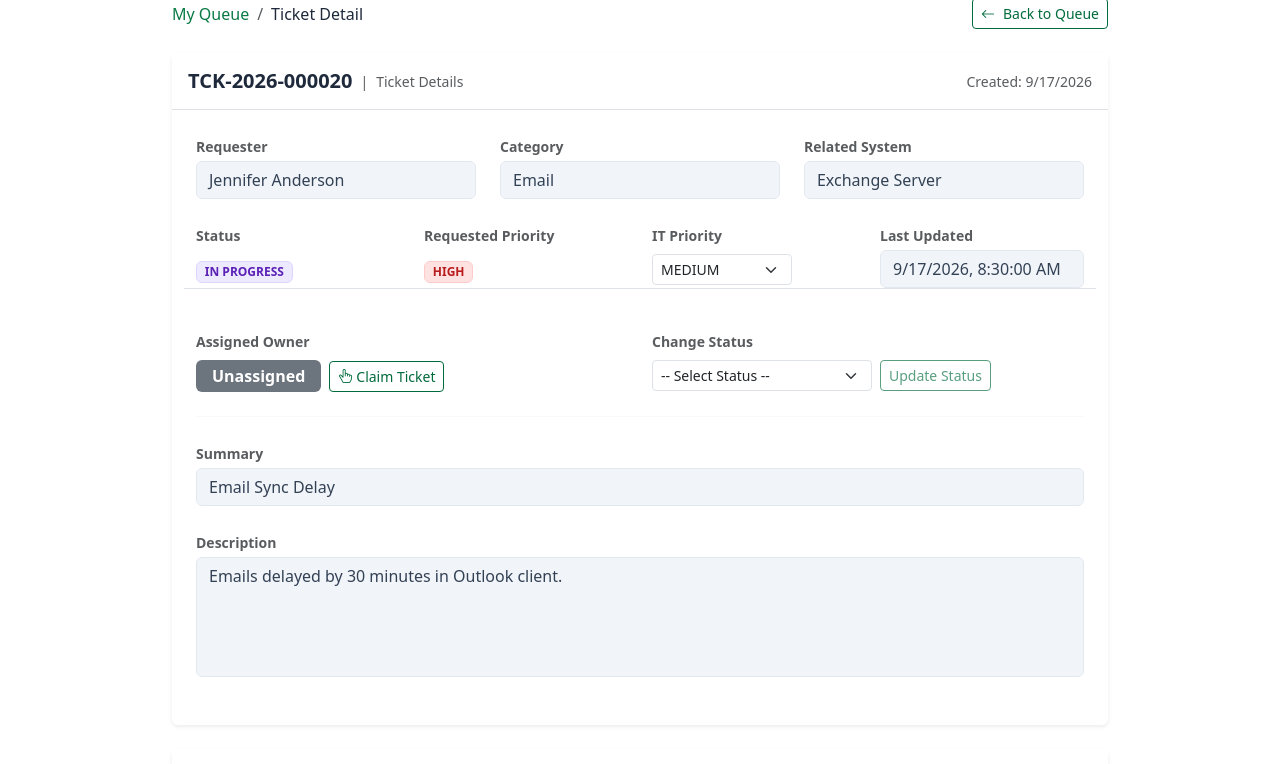
TicketDetailPage - IT Staff Operations (Lab 3 UI-20 to UI-26) › UI-23 / AC-11: requires confirmation modal and mandatory resolution summary to resolve ticket
This screenshot has width=1280, height=764.
Check: the heading "TCK-2026-000020" is shown, box 188,69 -> 352,93
# Select RESOLVED
Select "Resolved" in the dropdown named "change status" at [762, 376], box 652,360 -> 872,391
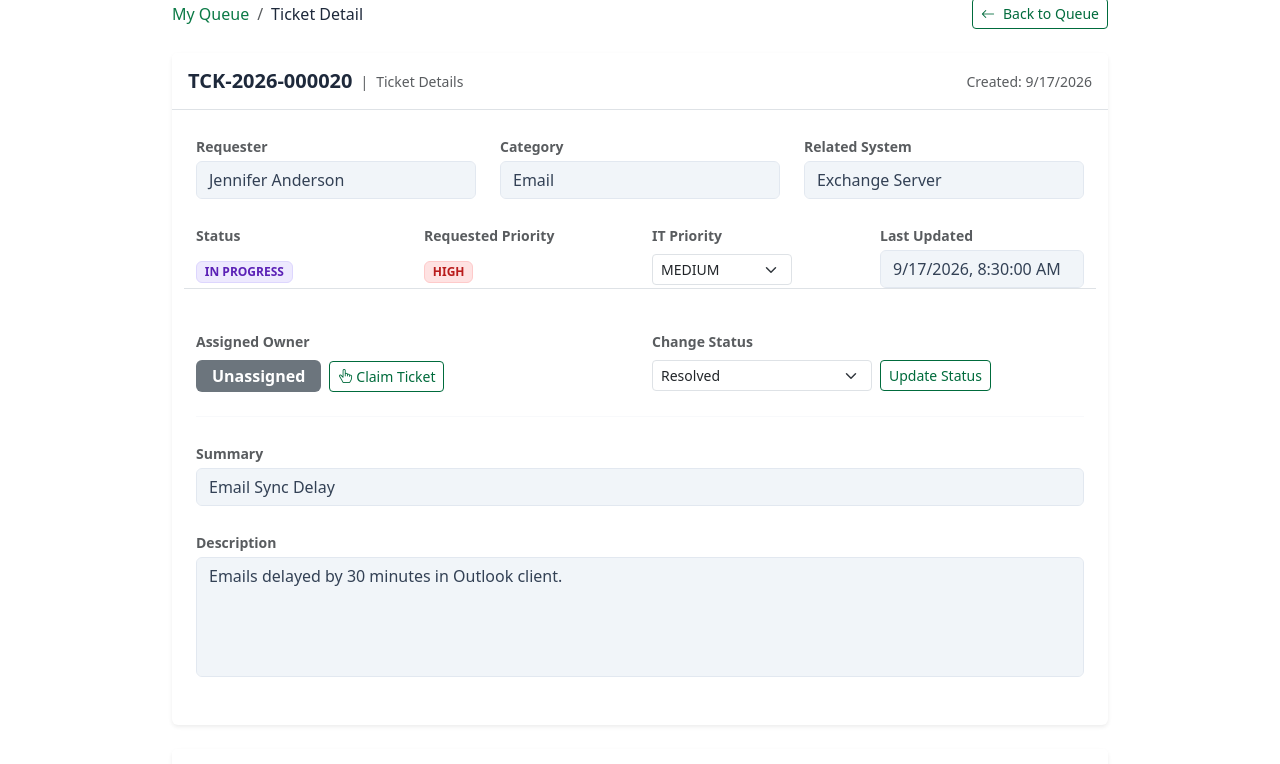
Click the button "Update Status".
click(935, 376)  # box 880,360 -> 991,391
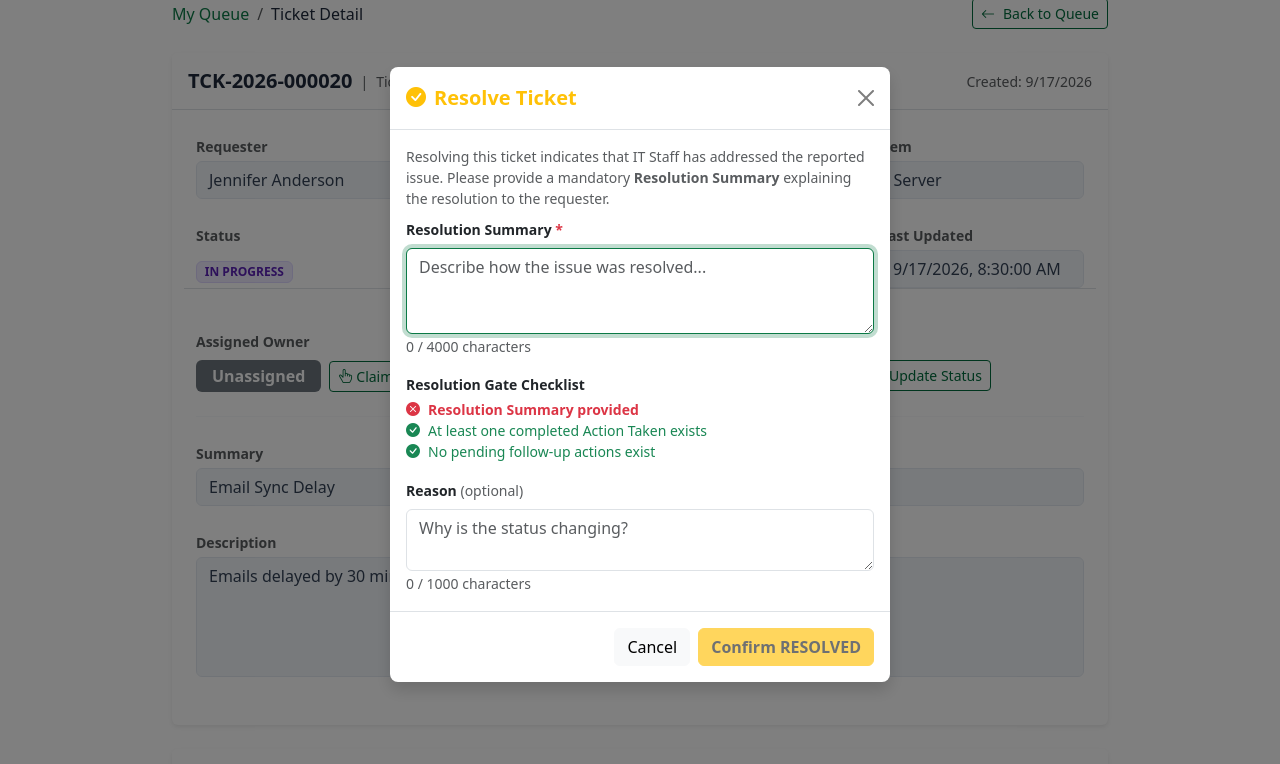
Check: the text "Resolve Ticket" is shown, box 406,84 -> 577,110
Check: the text box with placeholder "Describe how the issue was resolved..." is shown
Check: the button "Confirm RESOLVED" is disabled, box 698,628 -> 874,666
# Type resolution summary
Type "Restarted Exchange services and cleared outbound queue." into the text box with placeholder "Describe how the issue was resolved...".
click(640, 290); type("Restarted Exchange services and cleared outbound queue.")  # box 406,248 -> 874,334
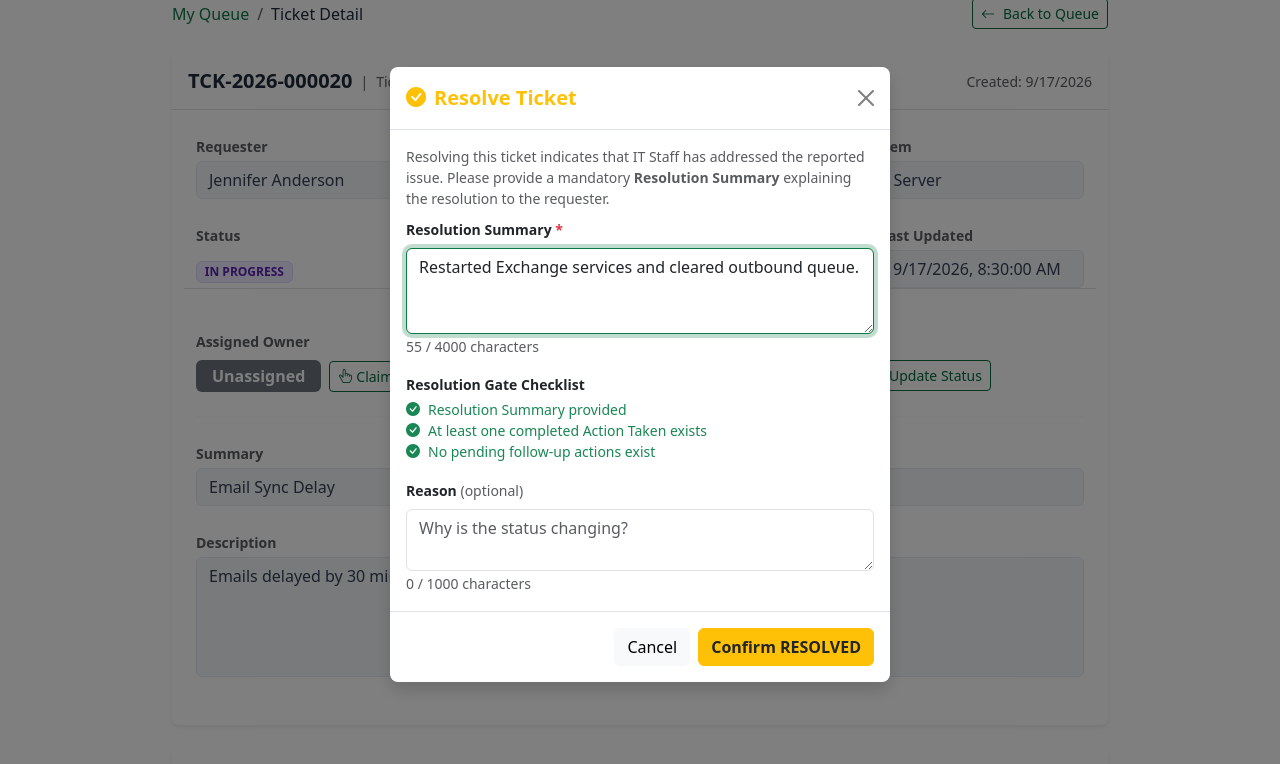
Check: the button "Confirm RESOLVED" is enabled
# Submit modal
Click the button "Confirm RESOLVED".
click(786, 646)  # box 698,628 -> 874,666
(page scrolled)
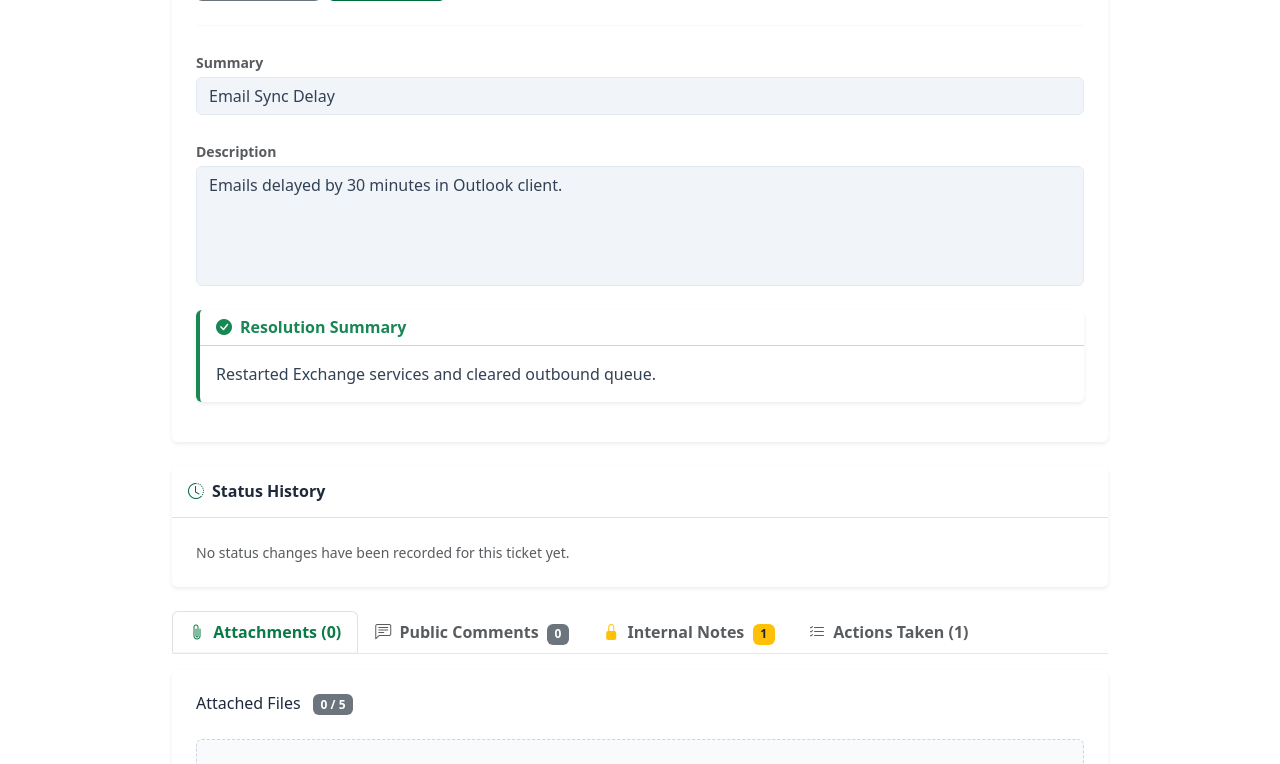
Check: the field with placeholder "describe how the issue was resolved" is not shown
Check: the text "Restarted Exchange services and cleared outbound queue." is shown, box 216,363 -> 656,385
